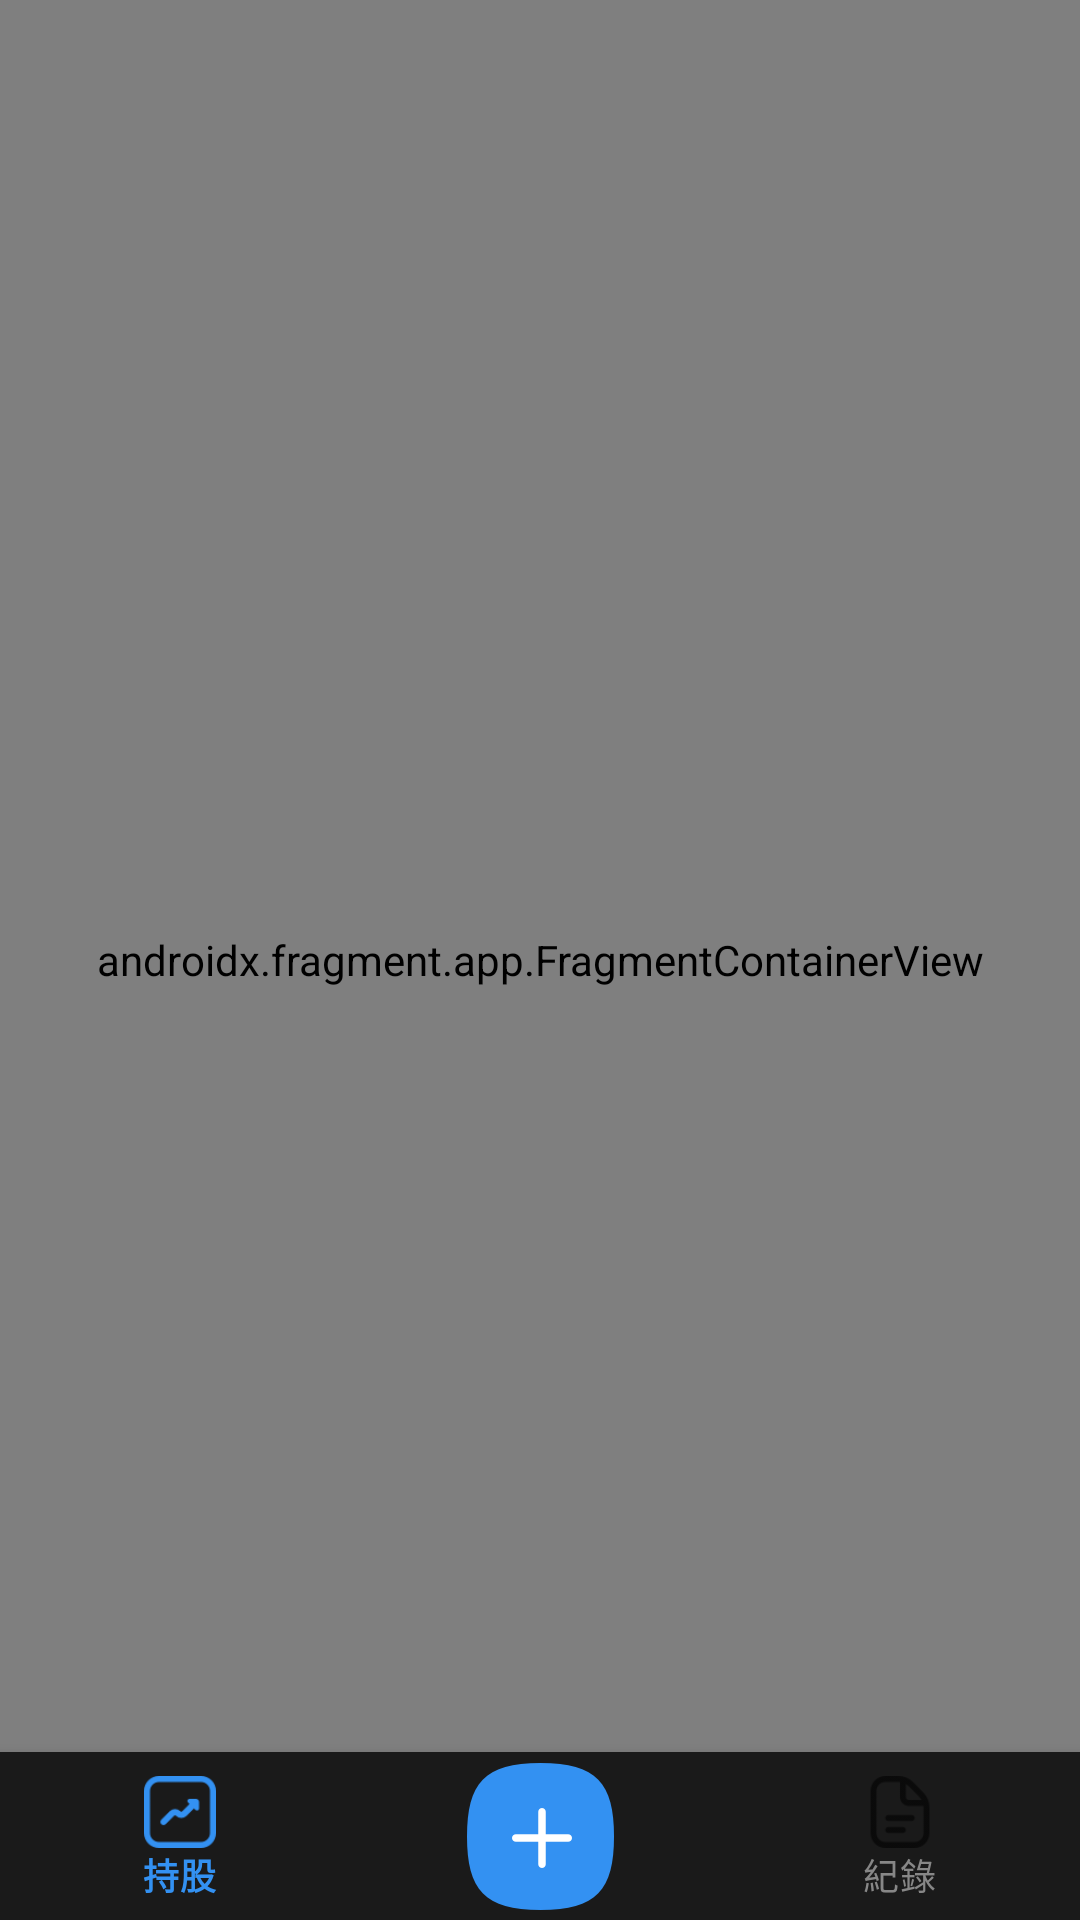

Point at icon controls on the screen. Image size 1080×1920, points as (x=x, y=y).
add one: (x=540, y=1836)
